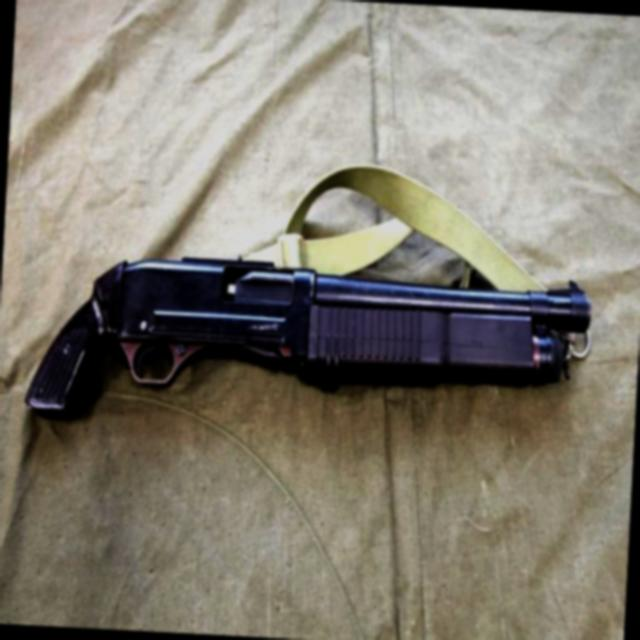shotgun: (6, 196, 640, 500)
